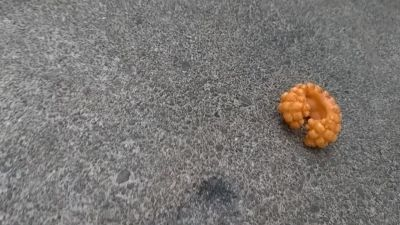eggs: (278, 81, 345, 150)
